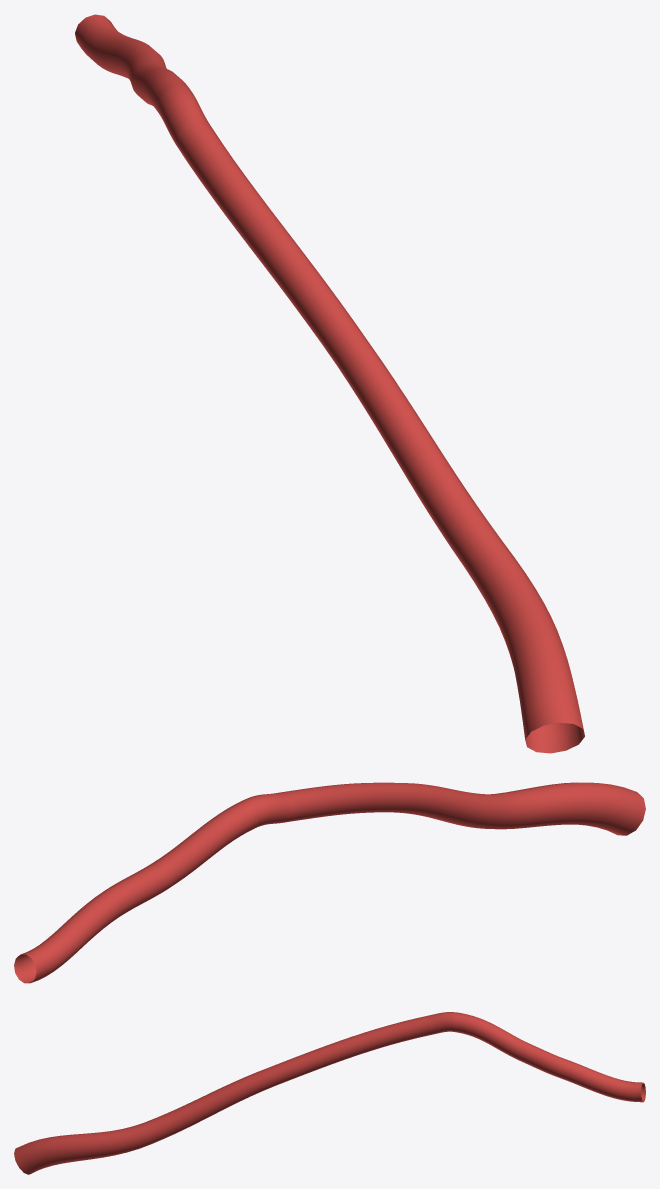
The picture shows the model from 3 angles, top to bottom: view 1: azimuth 30°, elevation 25°; view 2: azimuth 150°, elevation 25°; view 3: azimuth 270°, elevation 25°; orthographic projection. The views are drawn at different scales.
Parts seen in each view (by area): view 1: 左侧腘动脉; view 2: 左侧腘动脉; view 3: 左侧腘动脉.
Boxes of the visible parts, bbox=[...] form: 左侧腘动脉: bbox=[75, 14, 584, 753]; 左侧腘动脉: bbox=[14, 782, 645, 983]; 左侧腘动脉: bbox=[14, 1012, 645, 1174].
Size of the model in its own units: 0.0517 by 0.085 by 0.2829.
